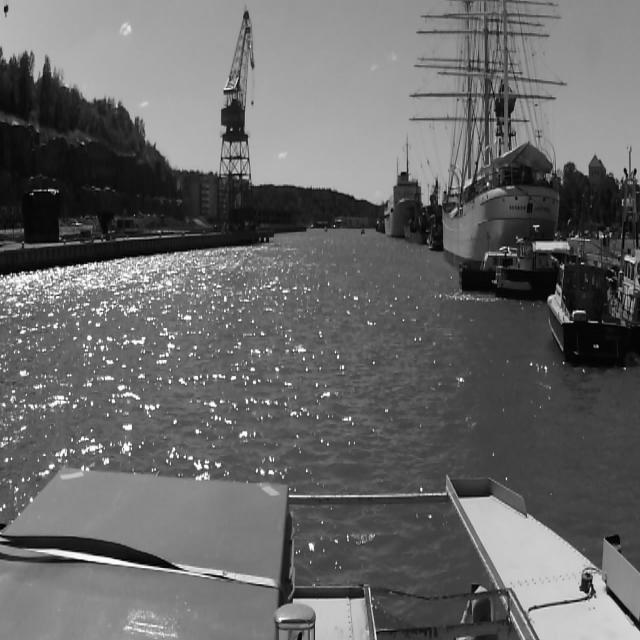ship: (395, 0, 565, 257), (546, 258, 628, 366), (492, 239, 556, 301), (380, 168, 422, 236), (403, 180, 431, 244), (360, 230, 366, 236)
